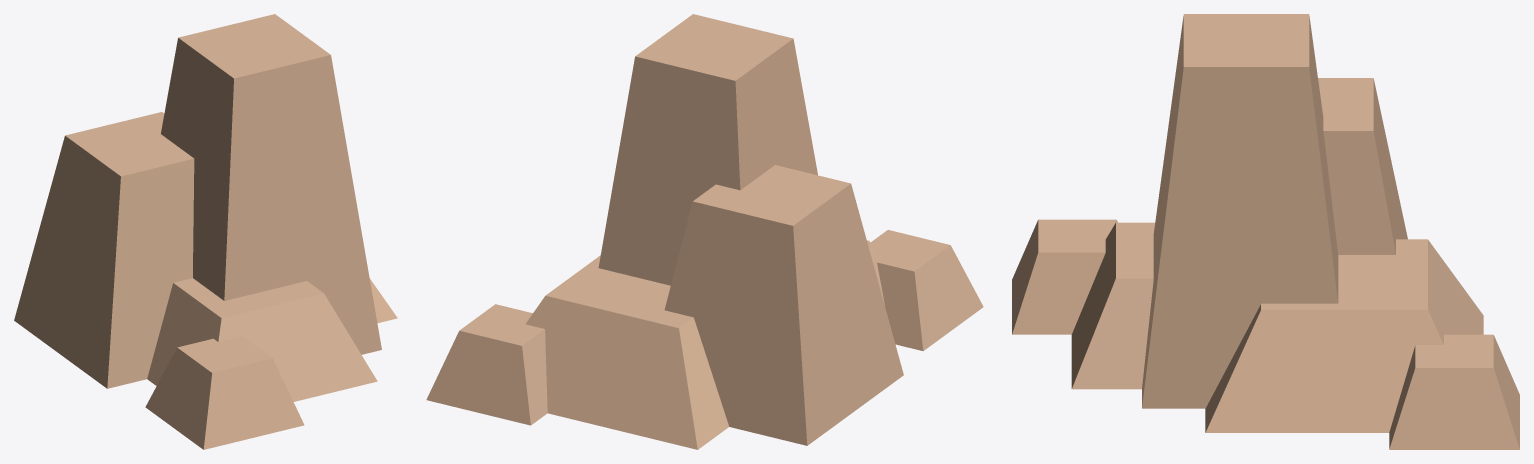
The model's file is rocksTall.glb.
3 renders of one model, left to right at view 1: azimuth 30°, elevation 25°; view 2: azimuth 150°, elevation 25°; view 3: azimuth 270°, elevation 25°, orthographic. The views are drawn at different scales.
Parts seen in each view (by area): view 1: rocksTall; view 2: rocksTall; view 3: rocksTall.
Part boxes in pixels (bbox=[...]): rocksTall: bbox=[14, 14, 397, 449]; rocksTall: bbox=[426, 14, 983, 449]; rocksTall: bbox=[1012, 14, 1519, 449].
Size of the model in its own units: 6.72 by 5.78 by 8.21.
